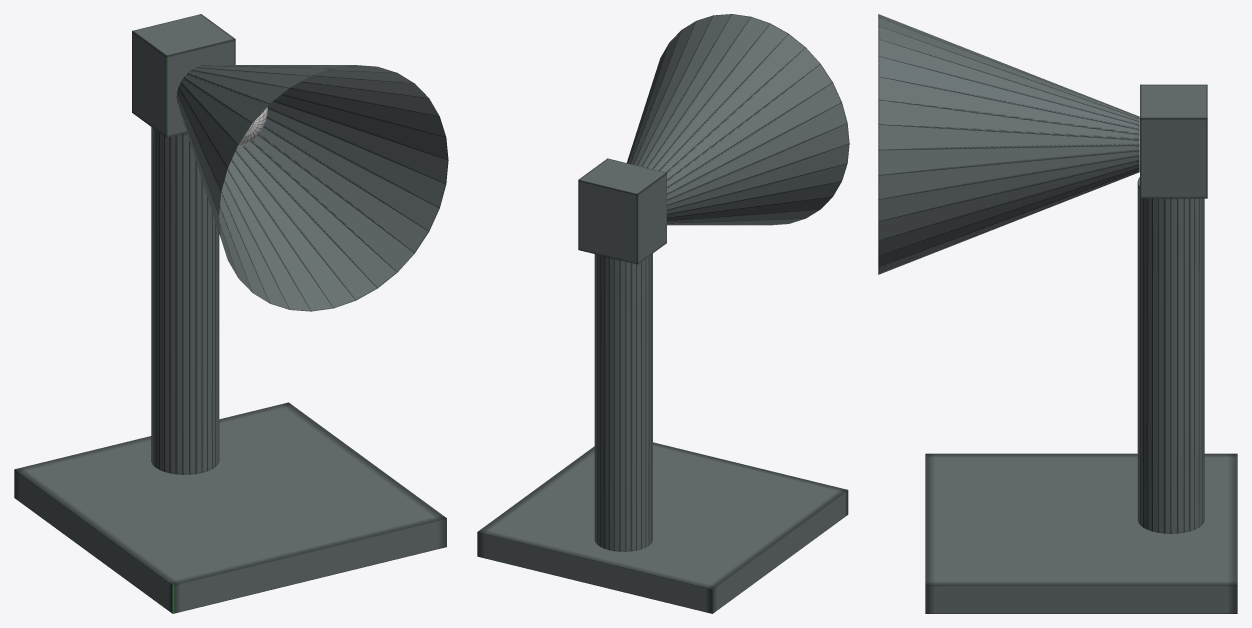
File: lamp.fbx
3 views of the same model, side by side, from view 1: azimuth 30°, elevation 25°; view 2: azimuth 150°, elevation 25°; view 3: azimuth 270°, elevation 25° (orthographic). The views are drawn at different scales.
Visible parts, largest first — view 1: Lamp; view 2: Lamp; view 3: Lamp.
Boxes of the visible parts, left/top/right/bottom form: Lamp: left=14, top=14, right=448, bottom=613; Lamp: left=477, top=14, right=849, bottom=613; Lamp: left=878, top=14, right=1237, bottom=613.
Bounding box in the file's own units: 239 × 441 × 275.
